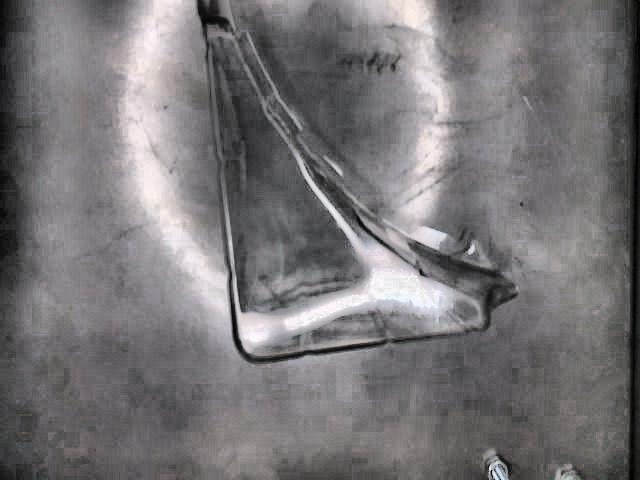Plastic: (199, 0, 524, 363)
